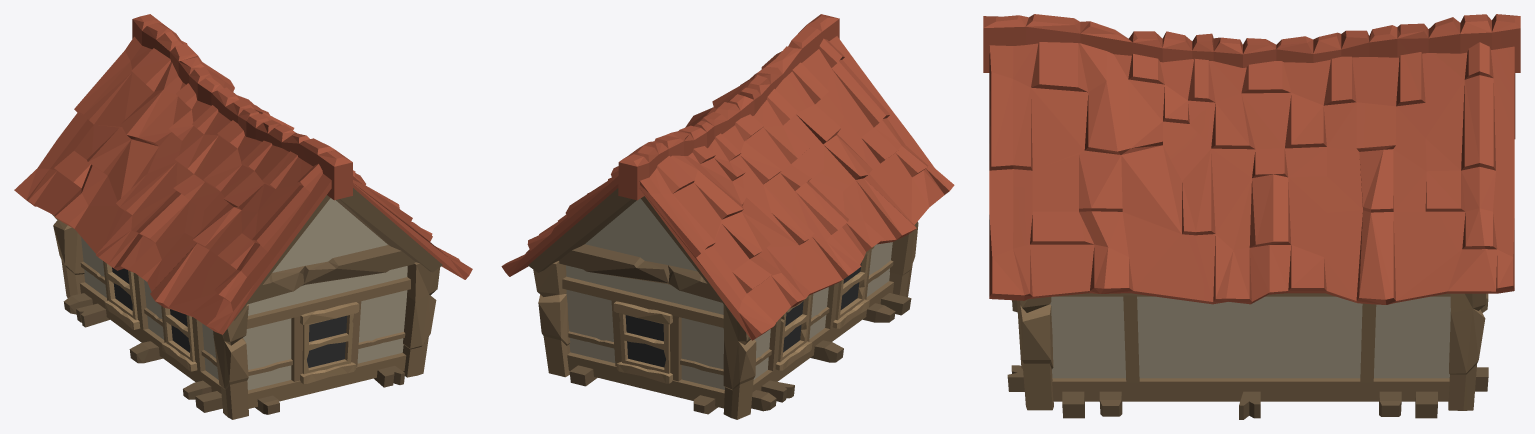
Rendered from SM_Bld_House_RoomTop_02.gltf.
The picture shows the model from 3 angles, left to right: view 1: azimuth 30°, elevation 25°; view 2: azimuth 150°, elevation 25°; view 3: azimuth 270°, elevation 25°; orthographic projection. The views are drawn at different scales.
Visible parts, largest first — view 1: SM_Bld_House_RoomTop_02; view 2: SM_Bld_House_RoomTop_02; view 3: SM_Bld_House_RoomTop_02.
Boxes of the visible parts, left/top/right/bottom form: SM_Bld_House_RoomTop_02: left=14, top=14, right=472, bottom=419; SM_Bld_House_RoomTop_02: left=501, top=14, right=954, bottom=419; SM_Bld_House_RoomTop_02: left=983, top=14, right=1520, bottom=419.
Bounding box in the file's own units: 5.43 × 4.65 × 6.86.
Materials: 1 (1 with a texture image).
